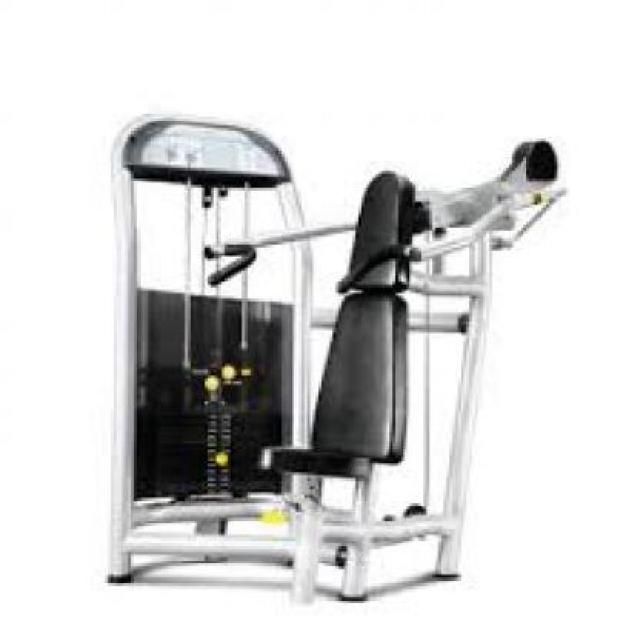shoulder press machine: (94, 95, 572, 620)
